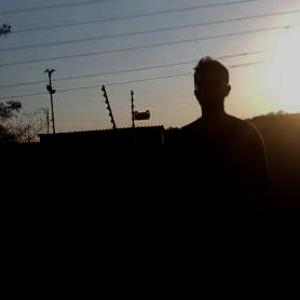follow: (167, 53, 273, 299)
